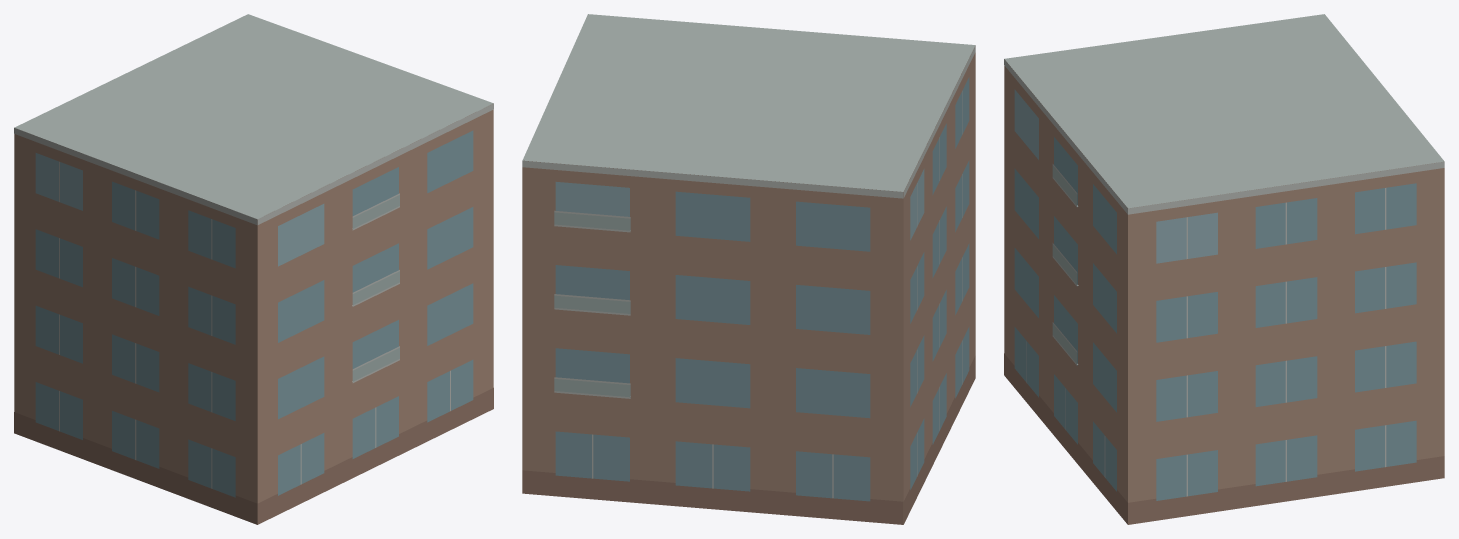
Rendered from survey-upis-33042531.glb.
The picture shows the model from 3 angles, left to right: view 1: azimuth 30°, elevation 25°; view 2: azimuth 150°, elevation 25°; view 3: azimuth 270°, elevation 25°; orthographic projection. The views are drawn at different scales.
Visible parts, largest first — view 1: survey-upis-33042531.tmp; view 2: survey-upis-33042531.tmp; view 3: survey-upis-33042531.tmp.
Boxes of the visible parts, box(x1,y1,x2,y2) form: survey-upis-33042531.tmp: box(14, 14, 493, 524); survey-upis-33042531.tmp: box(522, 14, 975, 524); survey-upis-33042531.tmp: box(1004, 14, 1444, 524).
Size of the model in its own units: 16.15 by 12.25 by 15.46.
